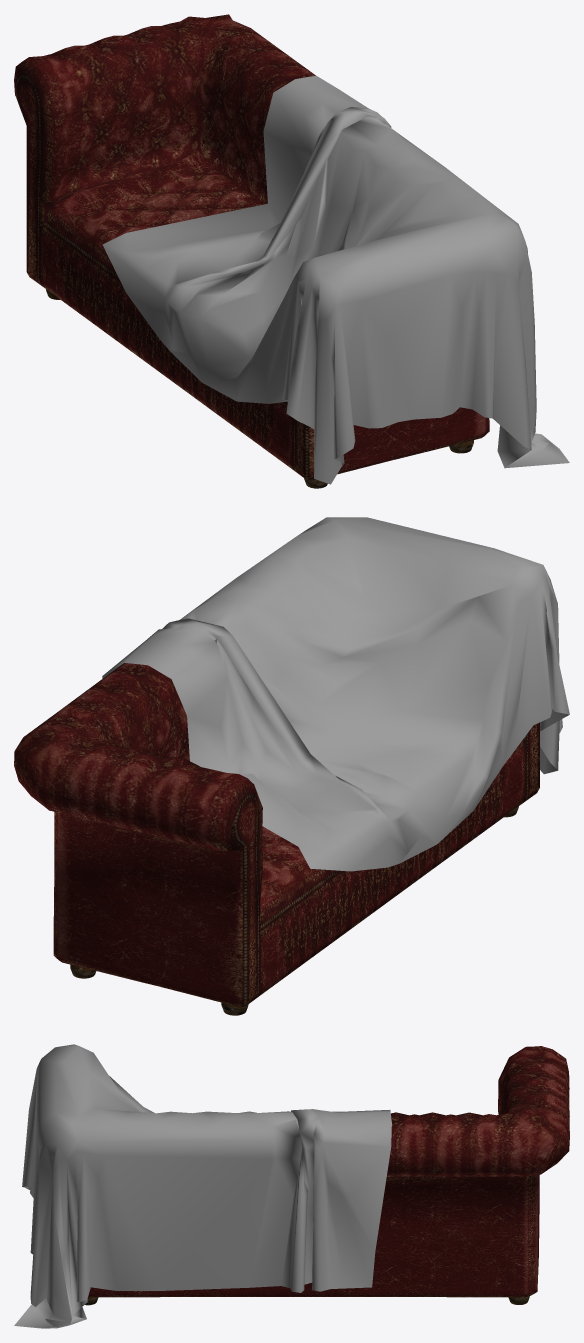
Rendered from SM_ChesterfieldSofaCover.FBX.
3 views of the same model, one above another, from view 1: azimuth 30°, elevation 25°; view 2: azimuth 150°, elevation 25°; view 3: azimuth 270°, elevation 25° (orthographic). The views are drawn at different scales.
Visible parts, largest first — view 1: SM_ChesterfieldSofaCover_LOD0; view 2: SM_ChesterfieldSofaCover_LOD0; view 3: SM_ChesterfieldSofaCover_LOD0.
Part boxes in pixels (<box>): SM_ChesterfieldSofaCover_LOD0: <box>14,14,569,488</box>; SM_ChesterfieldSofaCover_LOD0: <box>14,517,569,1015</box>; SM_ChesterfieldSofaCover_LOD0: <box>14,1044,569,1328</box>.
Size of what is drawn, in the model's own units: 132 by 109 by 277.
